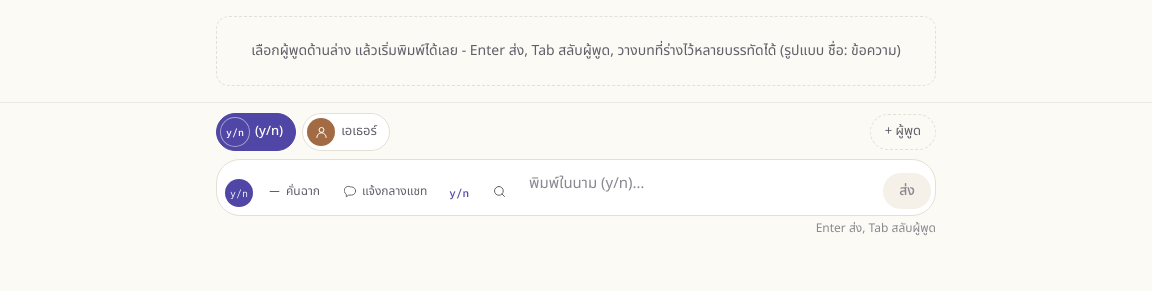
Scenario: ChatComposer › inserts a variable with a breathing space and wears it as a chip
Type "ทดสอบ" into the text box named "พิมพ์ข้อความ" at (700, 184), box [521,164,879,204]
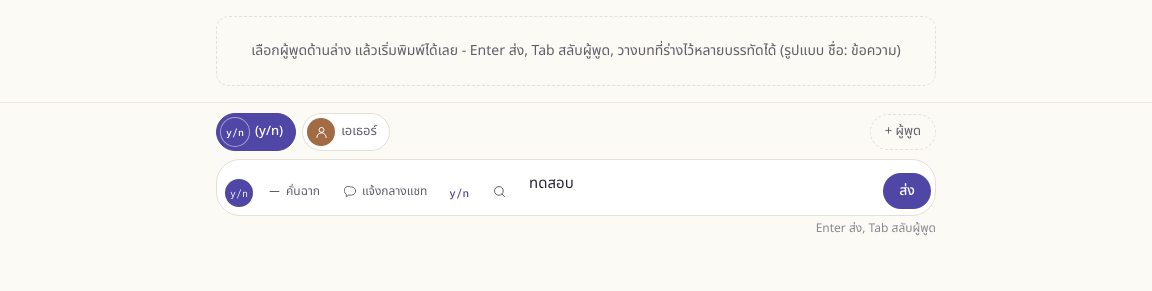
Click the button named "แทรกตัวแปรผู้อ่าน" at (459, 193), box [441,177,477,209]
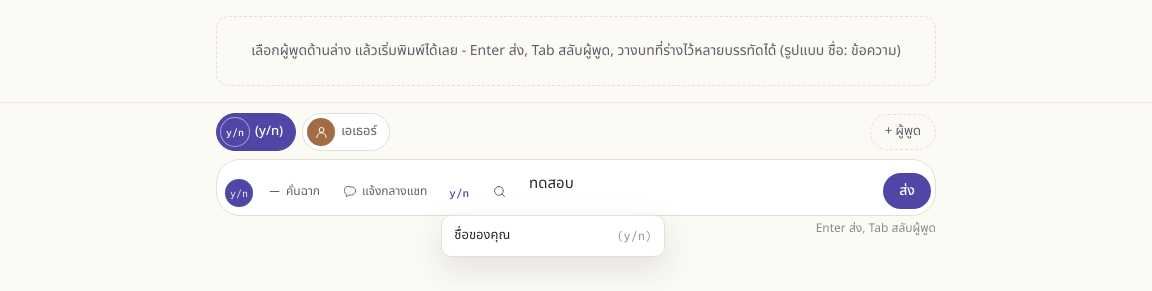
Click the button "ชื่อของคุณ (y/n)" at (553, 236), box [446,220,660,252]
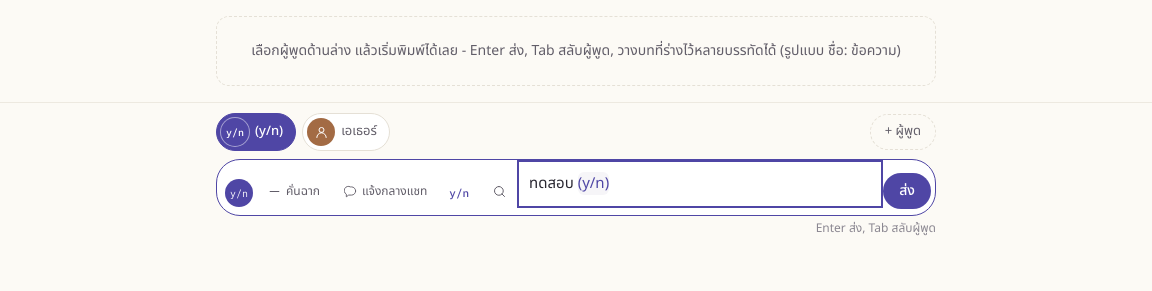
Expected: the text "(y/n)" is shown, [578,172,609,195]
Expected: the text box named "พิมพ์ข้อความ" holds "ทดสอบ (y/n)", [521,164,879,204]
